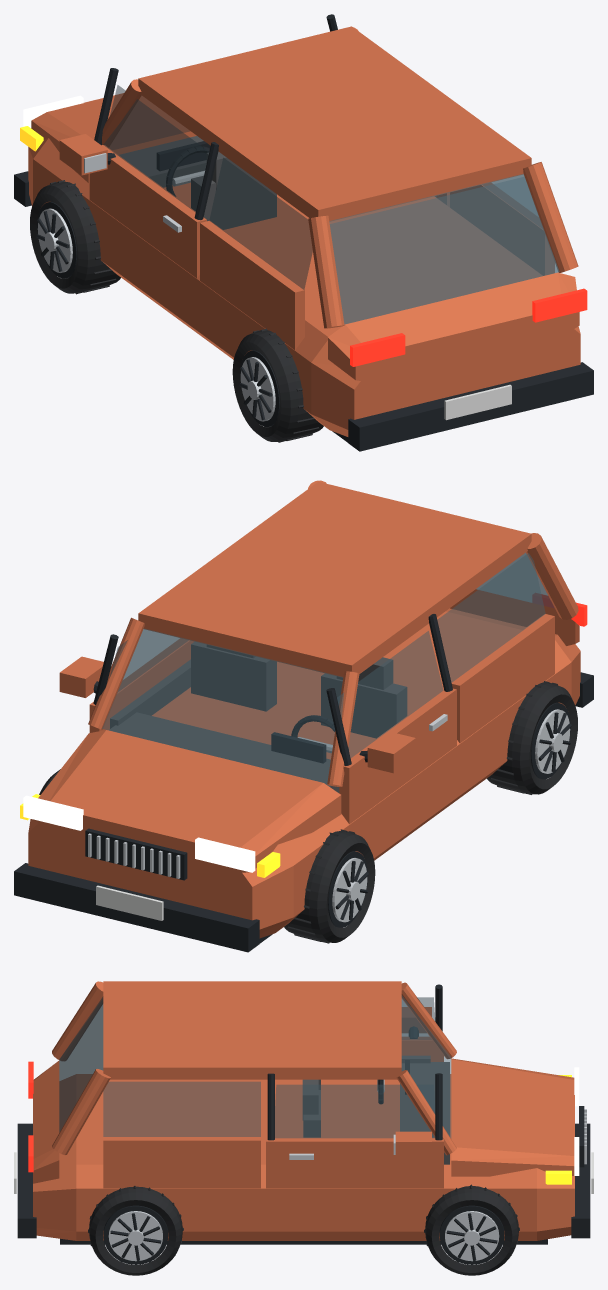
The model's file is compact.glb.
3 renders of one model, top to bottom at view 1: azimuth 30°, elevation 25°; view 2: azimuth 150°, elevation 25°; view 3: azimuth 270°, elevation 25°, orthographic. The views are drawn at different scales.
Parts seen in each view (by area): view 1: Body, Door_Hatch, Door_FL, Wheel_FL, Wheel_RL; view 2: Body, Door_FL, Door_FR, Wheel_FL, Wheel_RL, Door_Hatch; view 3: Body, Door_FR, Wheel_FR, Wheel_RR, Door_Hatch, Door_FL.
Part boxes in pixels (<box>): Body: <box>14,26,593,451</box>; Door_Hatch: <box>330,177,558,323</box>; Door_FL: <box>59,68,218,278</box>; Wheel_FL: <box>30,180,120,294</box>; Wheel_RL: <box>232,328,323,442</box>; Body: <box>14,480,593,952</box>; Door_FL: <box>326,614,456,824</box>; Door_FR: <box>59,629,193,732</box>; Wheel_FL: <box>284,829,375,943</box>; Wheel_RL: <box>487,681,577,794</box>; Door_Hatch: <box>476,553,554,607</box>; Body: <box>14,981,593,1244</box>; Door_FR: <box>266,1073,443,1188</box>; Wheel_FR: <box>424,1184,519,1275</box>; Wheel_RR: <box>88,1186,183,1275</box>; Door_Hatch: <box>59,999,102,1131</box>; Door_FL: <box>401,984,443,1063</box>.
Size of what is drawn, in the model's own units: 2.18 by 1.47 by 3.96.
